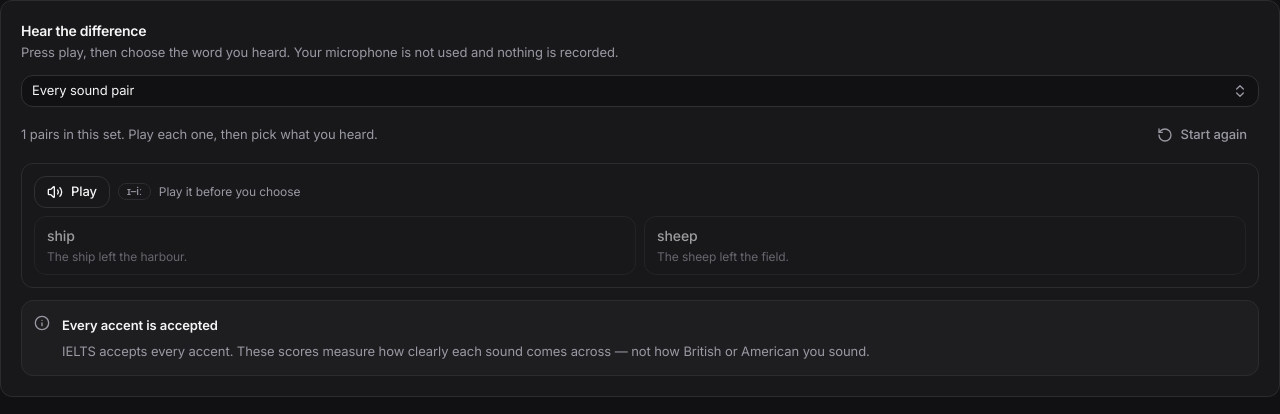
Test case: the minimal-pair drill › will not take an answer until the sound has been played
Expected: the button "ship The ship left the harbour." is disabled, [34, 216, 636, 274]
Expected: the text "Play it before you choose" is shown, [159, 182, 300, 200]
Click the button "Play" at (72, 192), box [34, 176, 110, 208]
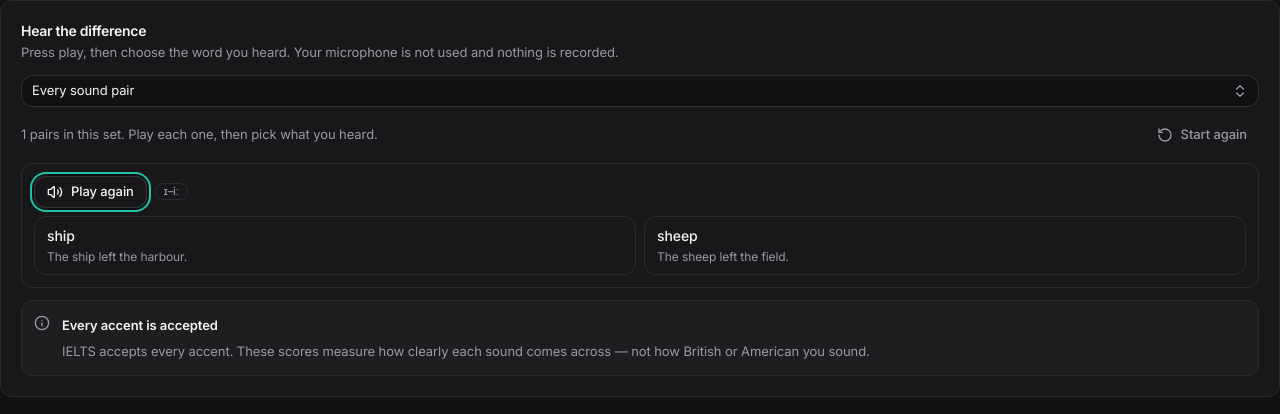
Result: the button "ship The ship left the harbour." is enabled at [34, 216, 636, 274]
